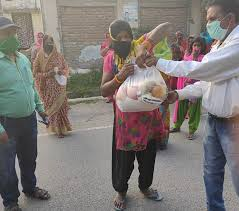mask: (204, 0, 236, 39), (107, 17, 135, 53), (0, 20, 20, 53), (189, 38, 205, 56), (43, 37, 54, 51)
